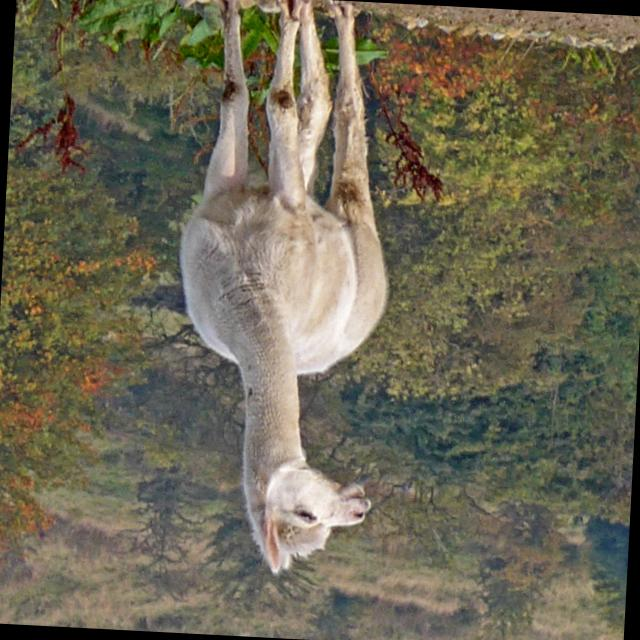alpaca: (167, 0, 405, 578)
